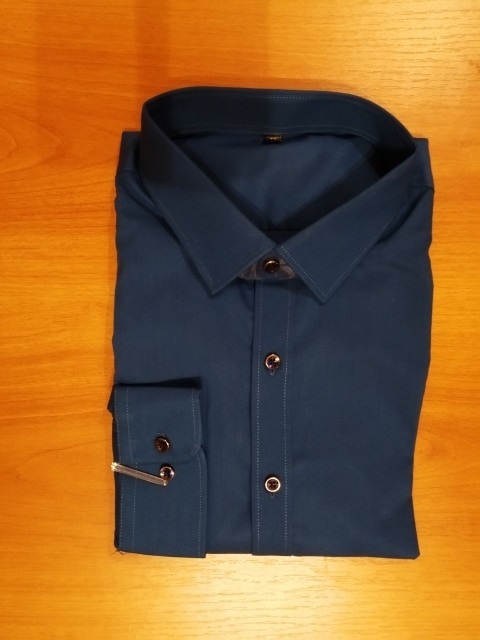shirts: (112, 95, 424, 538)
